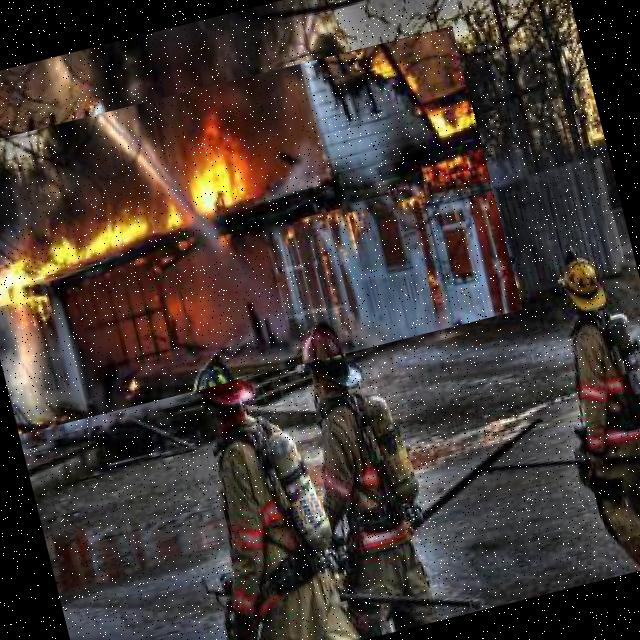fire: (0, 25, 522, 434)
